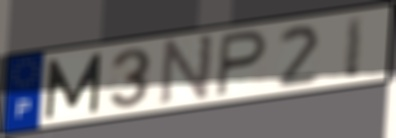2: (276, 23, 322, 90)
3: (106, 46, 154, 111)
I: (342, 13, 367, 83)
M: (43, 50, 105, 122)
N: (156, 32, 217, 108)
P: (213, 28, 270, 100)
